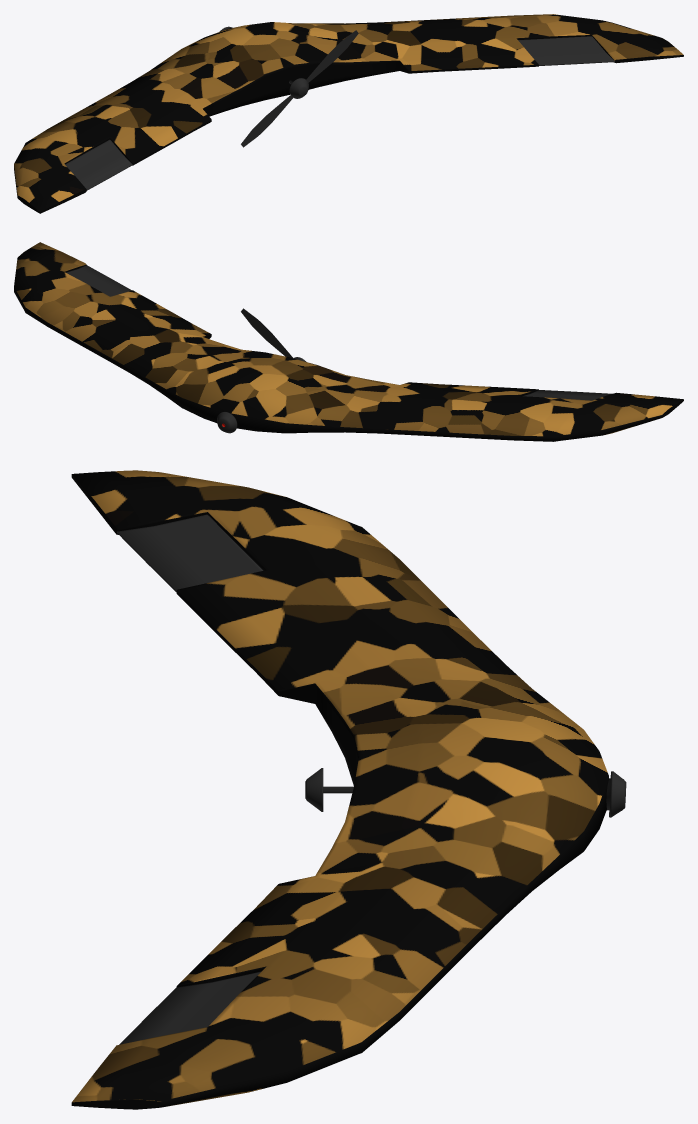
Rendered from drone_uav_wing_desert_camo.glb.
The picture shows the model from 3 angles, top to bottom: view 1: azimuth 30°, elevation 25°; view 2: azimuth 150°, elevation 25°; view 3: azimuth 270°, elevation 25°; orthographic projection. The views are drawn at different scales.
Visible parts, largest first — view 1: base_1, flapR_3, flapL_2, Prop_4; view 2: base_1, flapR_3, flapL_2, Prop_4, Camera_5; view 3: base_1, flapL_2, flapR_3.
Part boxes in pixels (box(x1,y1,x2,y2)): base_1: box(14, 14, 683, 213); flapR_3: box(518, 36, 614, 65); flapL_2: box(65, 139, 132, 190); Prop_4: box(241, 30, 358, 147); base_1: box(14, 242, 683, 441); flapR_3: box(66, 265, 131, 296); flapL_2: box(522, 390, 612, 400); Prop_4: box(241, 308, 306, 361); Camera_5: box(217, 411, 237, 433); base_1: box(71, 470, 608, 1109); flapL_2: box(117, 514, 263, 592); flapR_3: box(119, 971, 261, 1044).
Size of the model in its own units: 52.29 by 6.98 by 19.47.
4 materials, 1 textured.
